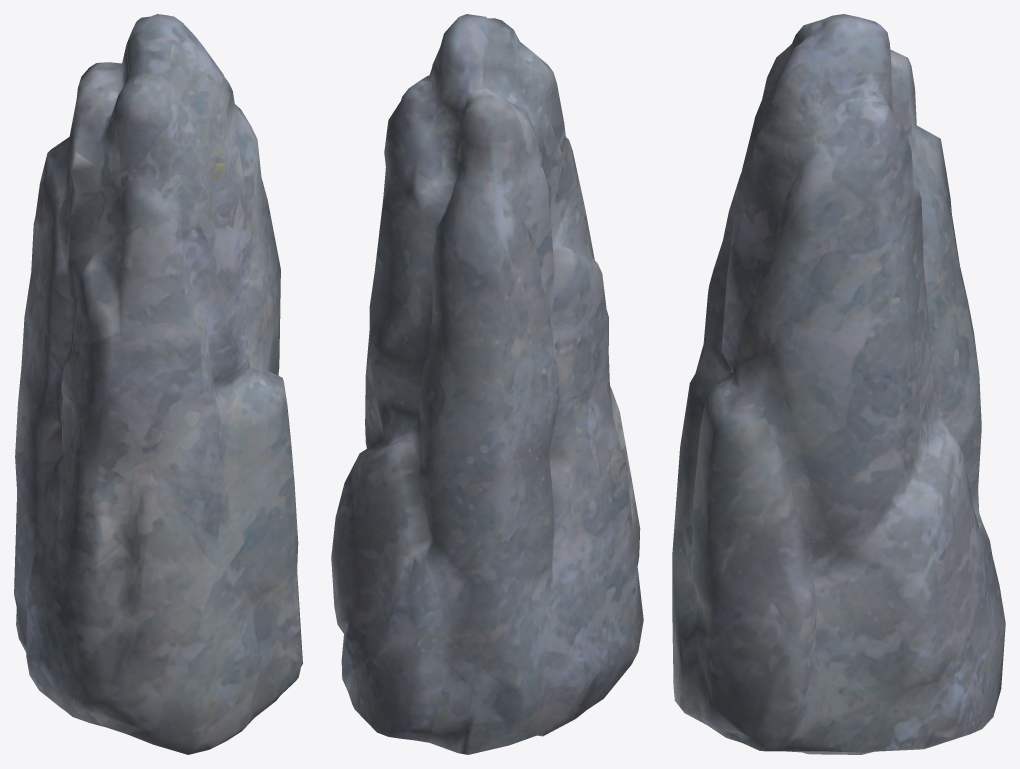
File: Area_Ly_Stone_LYG_Full_M_09.fbx
3 views of the same model, side by side, from view 1: azimuth 30°, elevation 25°; view 2: azimuth 150°, elevation 25°; view 3: azimuth 270°, elevation 25° (orthographic). The views are drawn at different scales.
Parts seen in each view (by area): view 1: Area_Ly_Stone_LYG_Full_M_09_Lod0; view 2: Area_Ly_Stone_LYG_Full_M_09_Lod0; view 3: Area_Ly_Stone_LYG_Full_M_09_Lod0.
Boxes of the visible parts, left/top/right/bottom form: Area_Ly_Stone_LYG_Full_M_09_Lod0: left=14, top=14, right=302, bottom=754; Area_Ly_Stone_LYG_Full_M_09_Lod0: left=331, top=14, right=643, bottom=754; Area_Ly_Stone_LYG_Full_M_09_Lod0: left=672, top=14, right=1005, bottom=754.
Size of the model in its own units: 27.69 by 77.66 by 32.07.
1 material, 1 textured.
